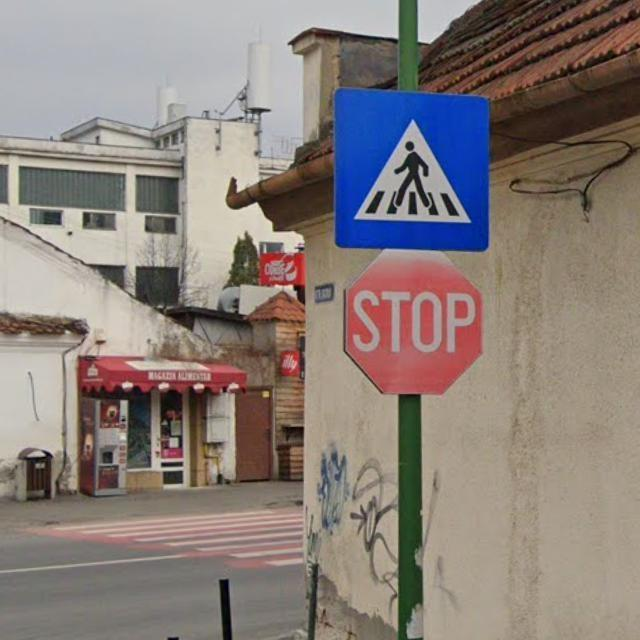info_crosswalk: (332, 87, 492, 253)
prio_stop: (342, 252, 482, 395)
